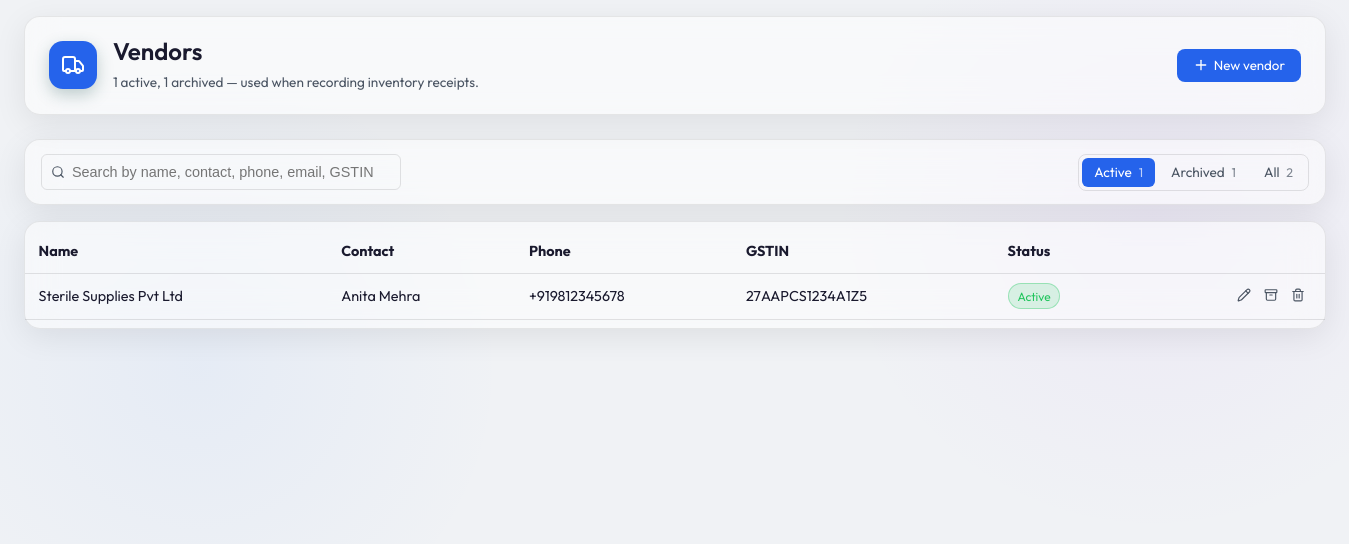
Test: <Vendors /> — New-vendor form toggle › "New vendor" opens the form (label flips to "Cancel"); click again closes
This screenshot has width=1349, height=544.
Check: the text "Sterile Supplies Pvt Ltd" is shown, box x1=25 y1=273 x2=328 y2=319
Click the button "New vendor" at (1239, 66), box x1=1177 y1=49 x2=1301 y2=82
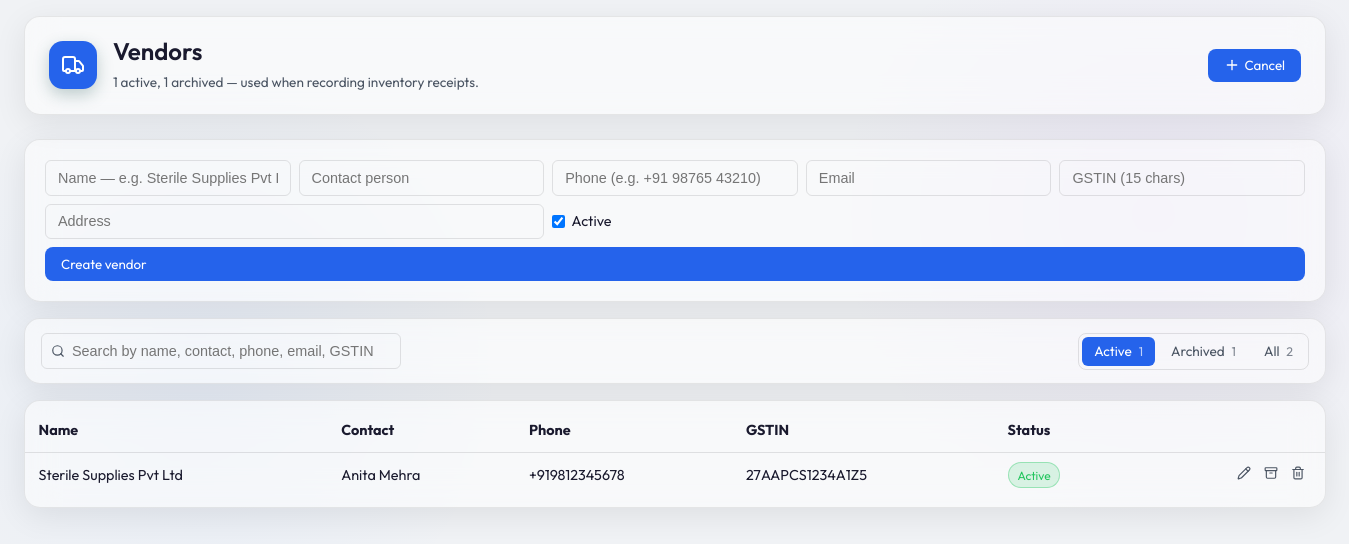
Check: the field with placeholder "Name — e.g. Sterile Supplies Pvt Ltd" is shown, box x1=45 y1=160 x2=291 y2=196
Check: the button "Cancel" is shown
Click the same toggle button (now "Cancel") to close.
Click the button "Cancel" at (1254, 66), box x1=1208 y1=49 x2=1301 y2=82
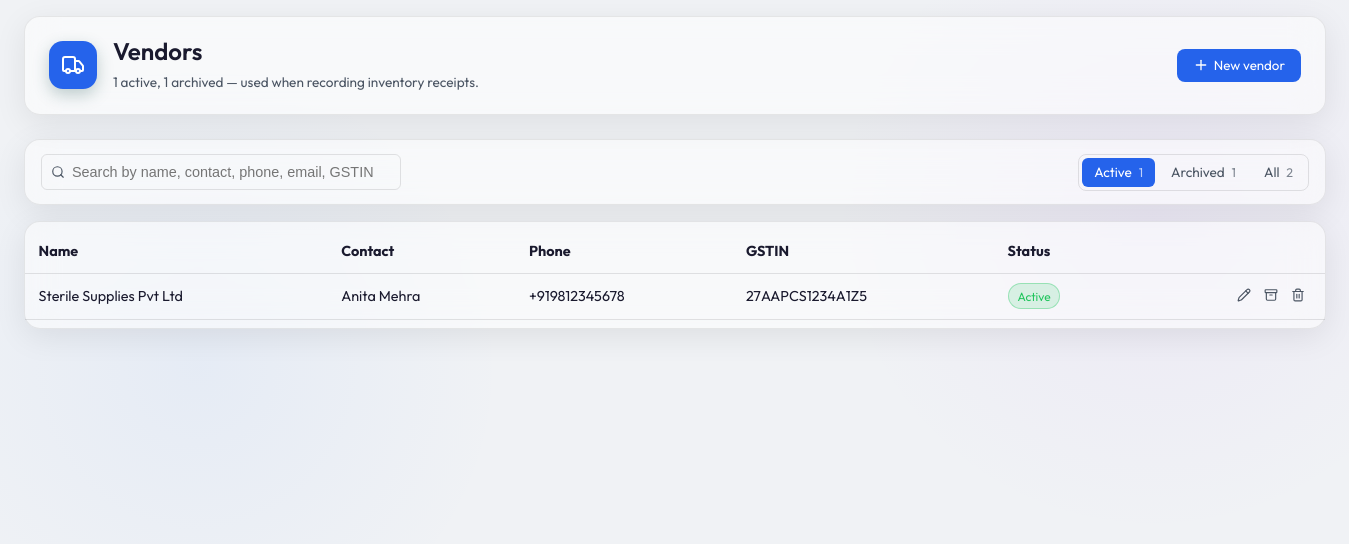
Check: the field with placeholder "Name — e.g. Sterile Supplies Pvt Ltd" is not shown
Check: the button "New vendor" is shown, box x1=1177 y1=49 x2=1301 y2=82
